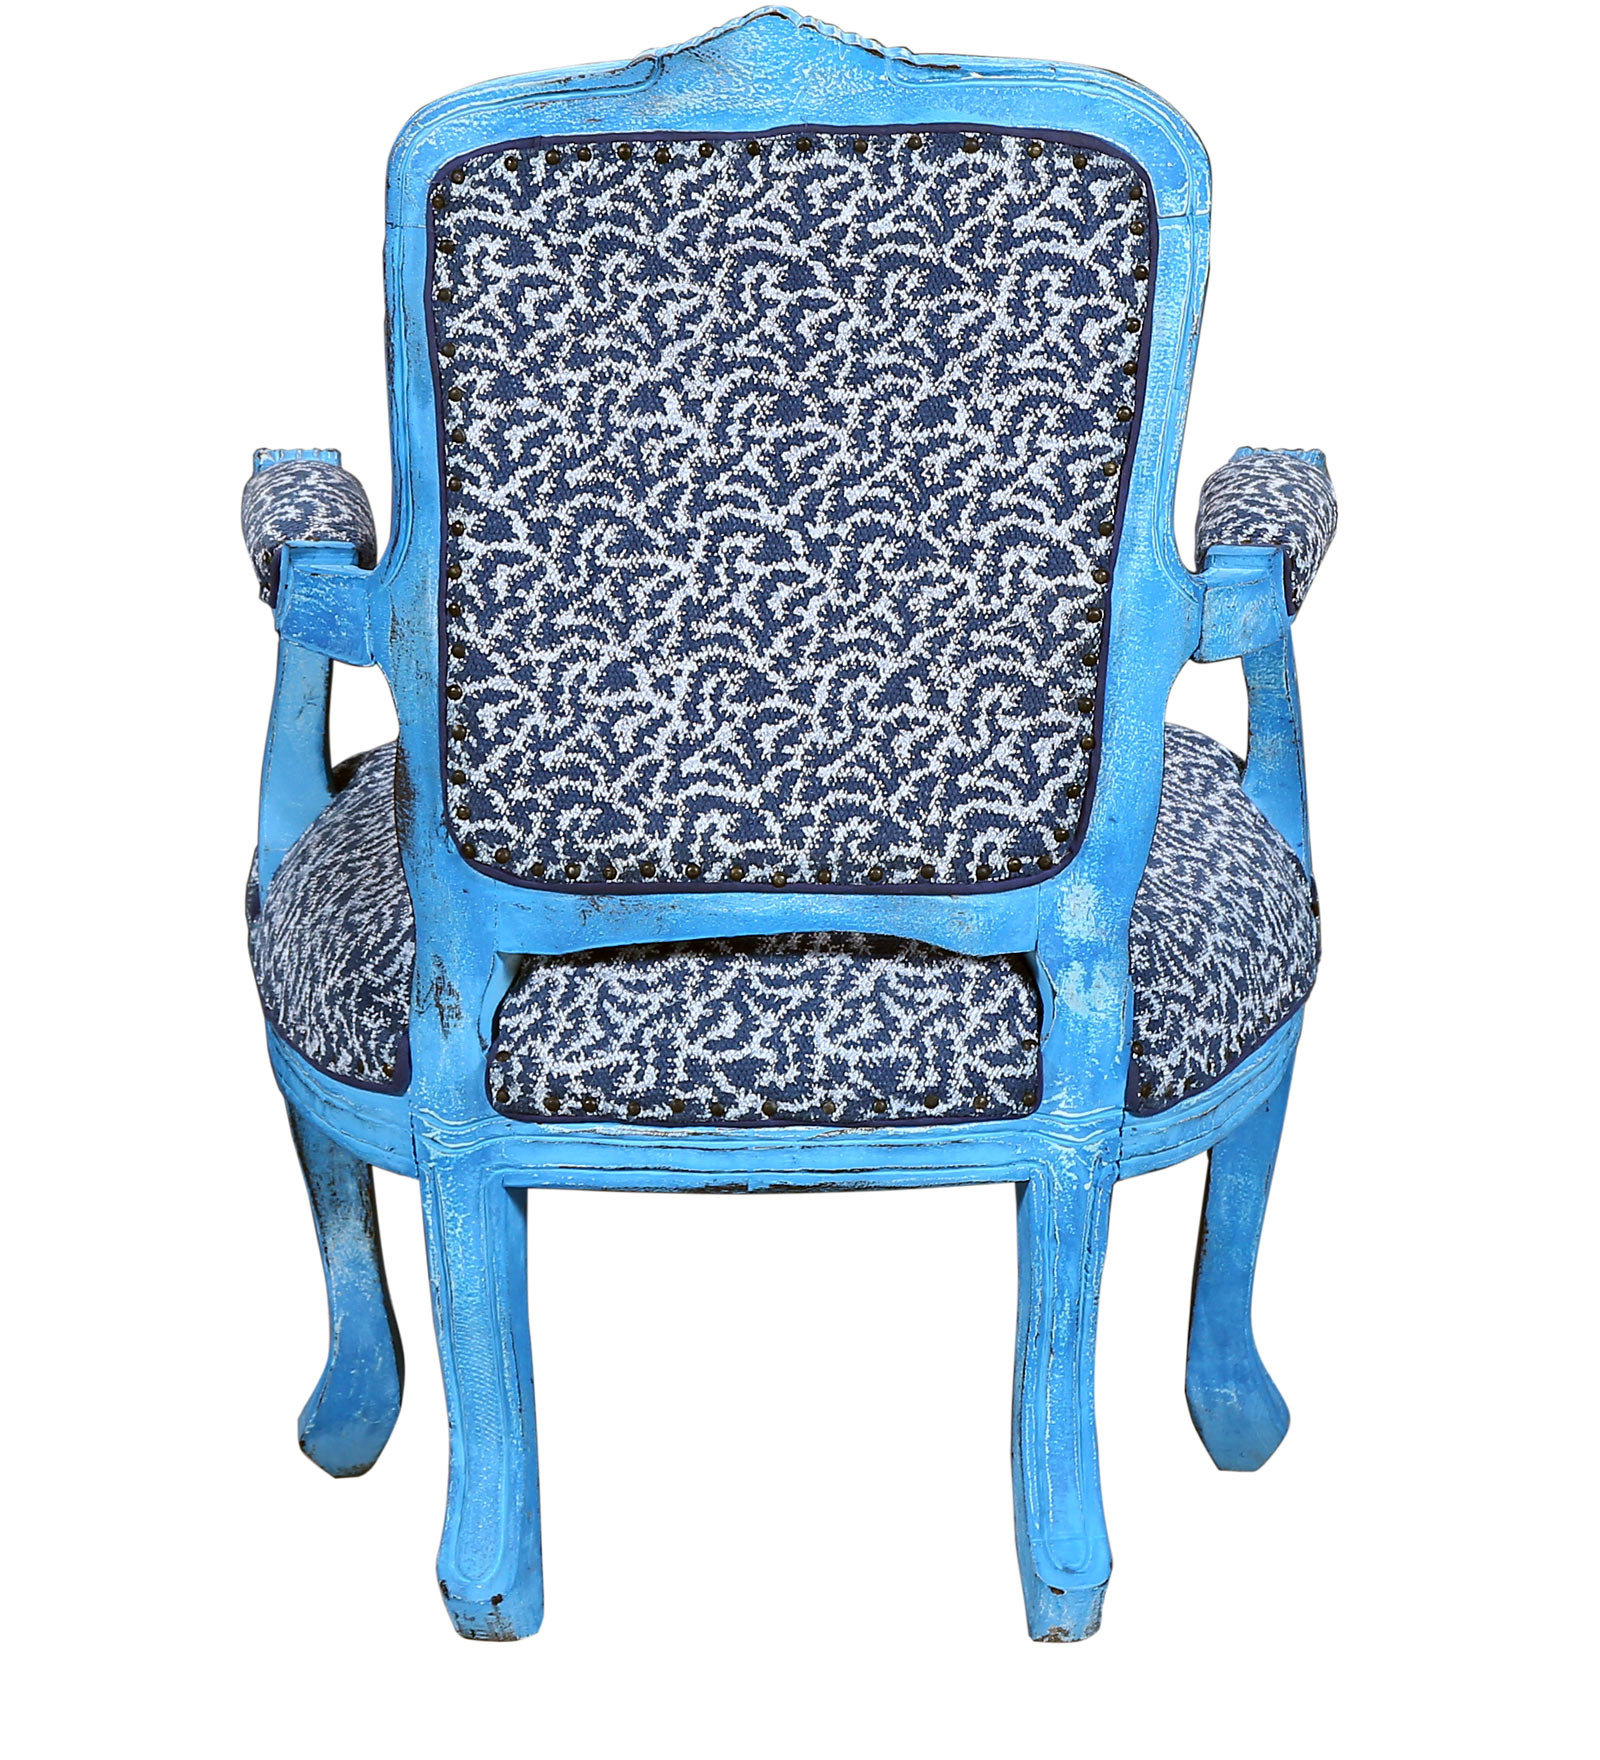Elton Arm Chair in Blue Colour by Bohemiana: (201, 8, 1398, 1712)
